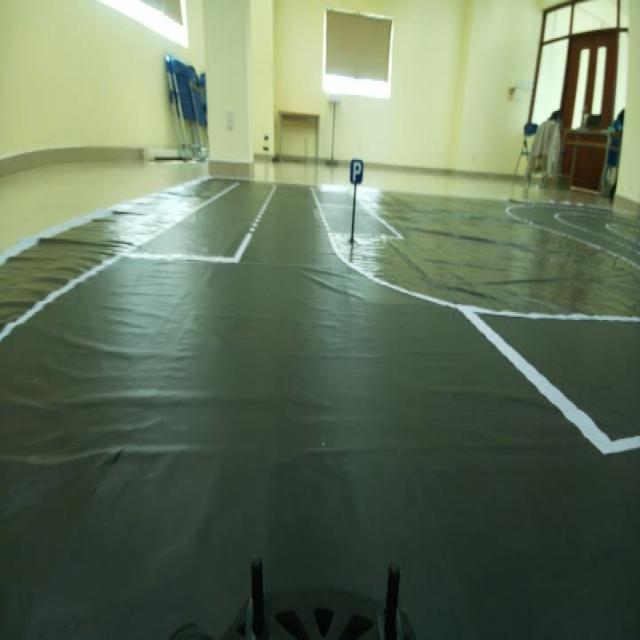parking: (344, 152, 367, 189)
